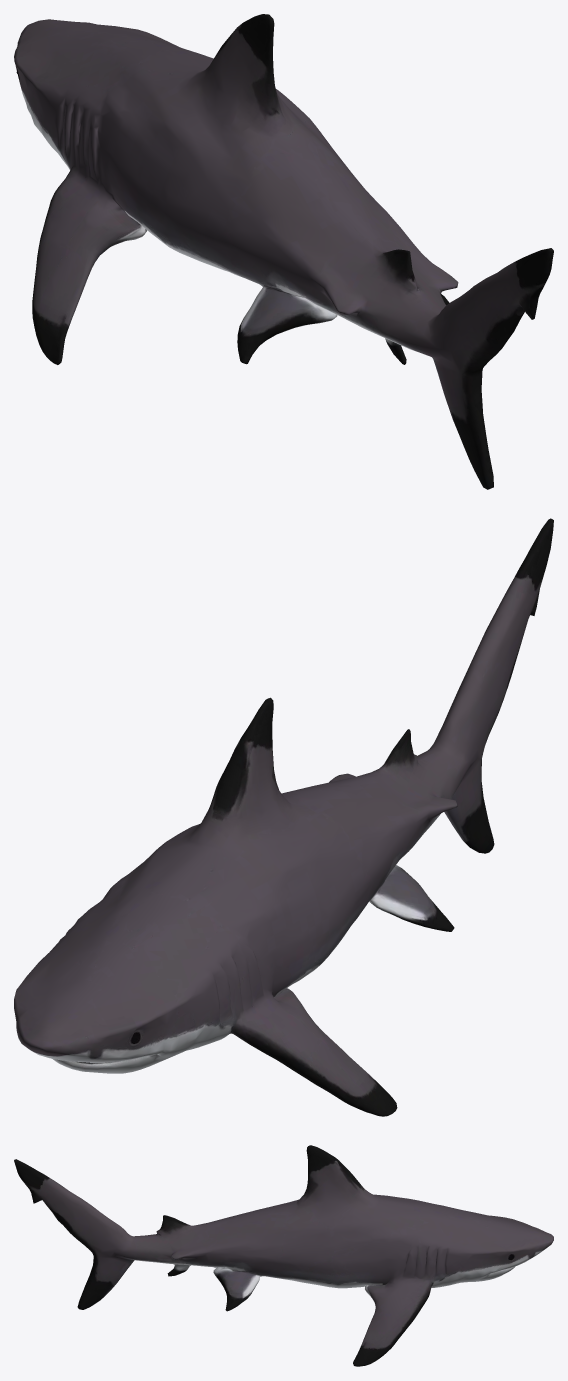
The model's file is reefshark.glb.
3 views of the same model, one above another, from view 1: azimuth 30°, elevation 25°; view 2: azimuth 150°, elevation 25°; view 3: azimuth 270°, elevation 25° (orthographic). The views are drawn at different scales.
Visible parts, largest first — view 1: tripo_node_efadcb4d-b097-464e-8ffa-588050c599cc; view 2: tripo_node_efadcb4d-b097-464e-8ffa-588050c599cc; view 3: tripo_node_efadcb4d-b097-464e-8ffa-588050c599cc.
Boxes of the visible parts, x1,y1,x2,y2 form: tripo_node_efadcb4d-b097-464e-8ffa-588050c599cc: (14, 14, 553, 489); tripo_node_efadcb4d-b097-464e-8ffa-588050c599cc: (14, 518, 553, 1116); tripo_node_efadcb4d-b097-464e-8ffa-588050c599cc: (14, 1145, 553, 1366).
Bounding box in the file's own units: 0.3846 × 0.364 × 1.
1 material, 1 textured.
